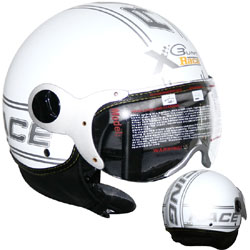helmet: (4, 6, 215, 184), (163, 173, 244, 235)
